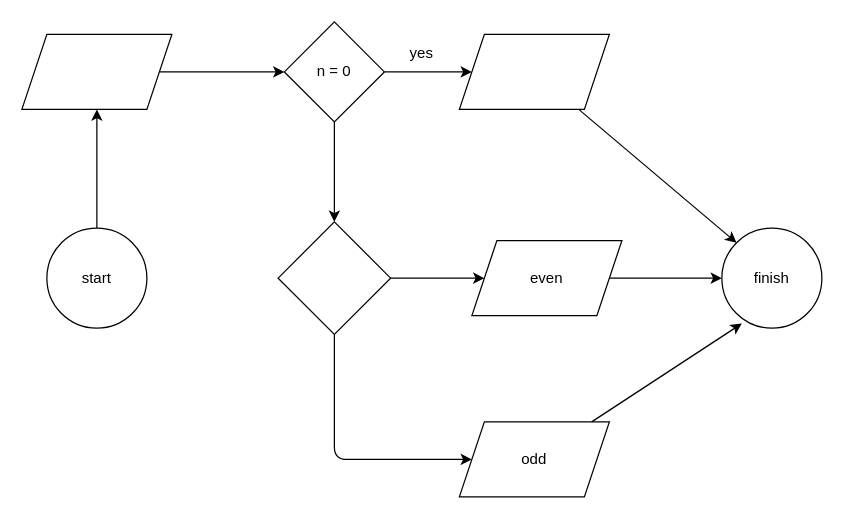
The diagram is 844 pixels wide and 519 high, and some of its shapes have lost their labels. Each missing label, with the centre of its shape:
"input n" belongs at [96,71].
"n % 2 = 0" belongs at [334,277].
"zero" belongs at [533,71].
